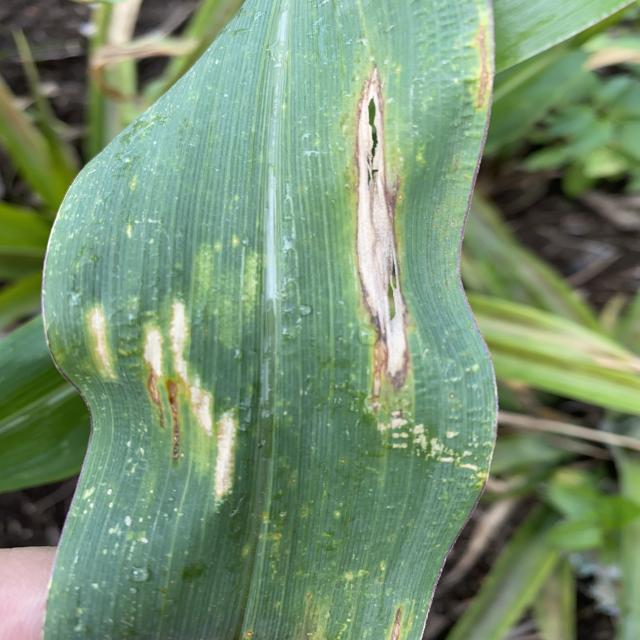Corn_Leaf_Blight: (46, 0, 496, 640)
